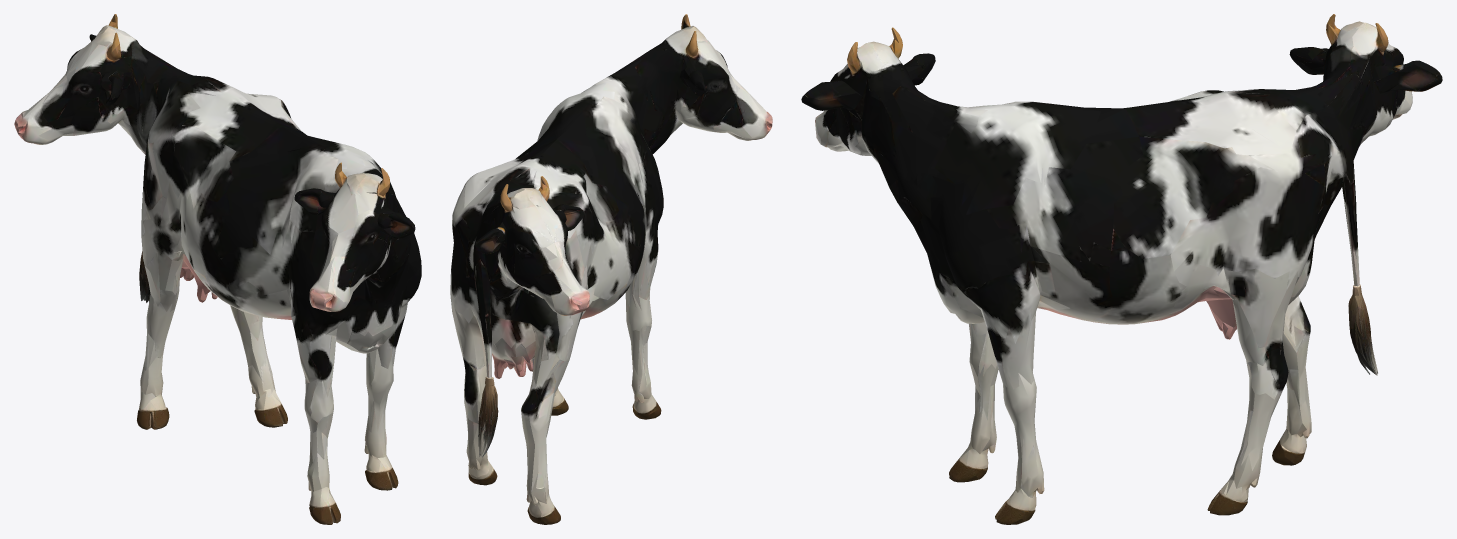
File: cow.glb
3 views of the same model, side by side, from view 1: azimuth 30°, elevation 25°; view 2: azimuth 150°, elevation 25°; view 3: azimuth 270°, elevation 25° (orthographic). The views are drawn at different scales.
Bounding box in the file's own units: 0.8848 × 1.44 × 1.9.
1 material, 1 textured.
